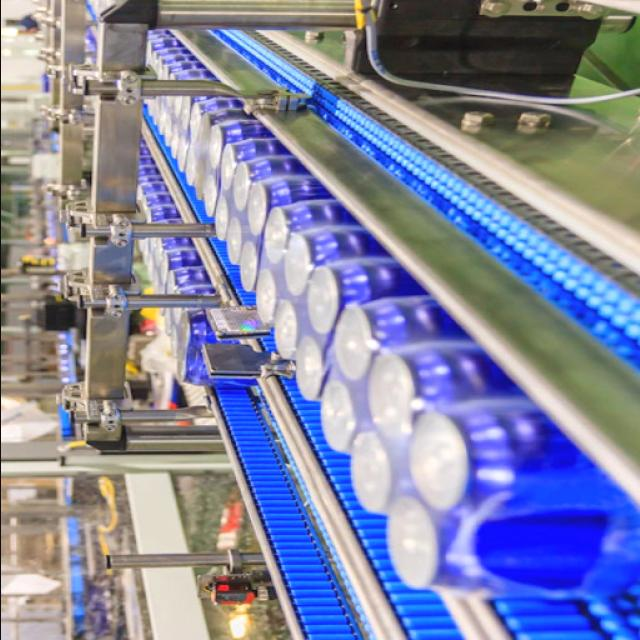conveyor: (134, 9, 640, 640)
